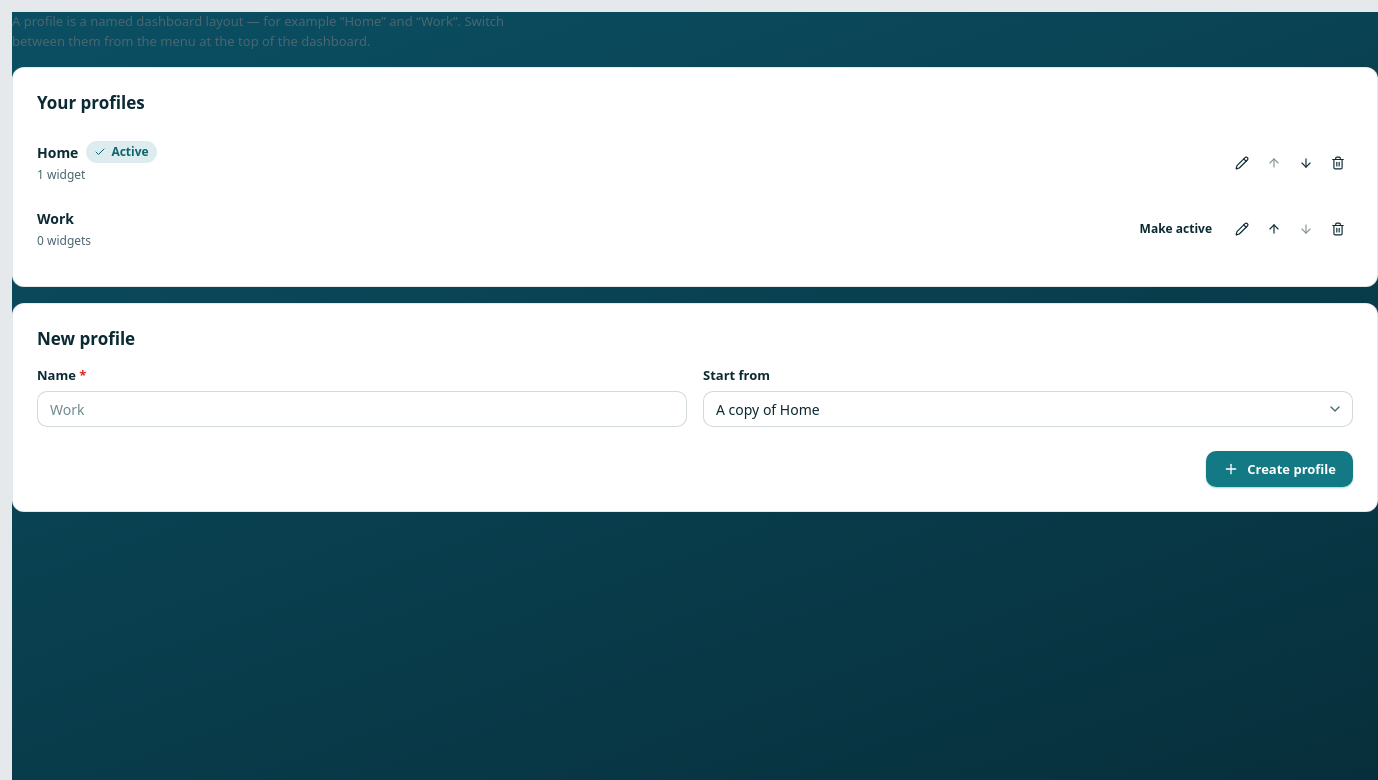
Test: Profiles settings › creates a profile as a copy, validating the name
This screenshot has width=1378, height=780.
Click the button "Create profile": [1280, 469] box x1=1206 y1=451 x2=1353 y2=487
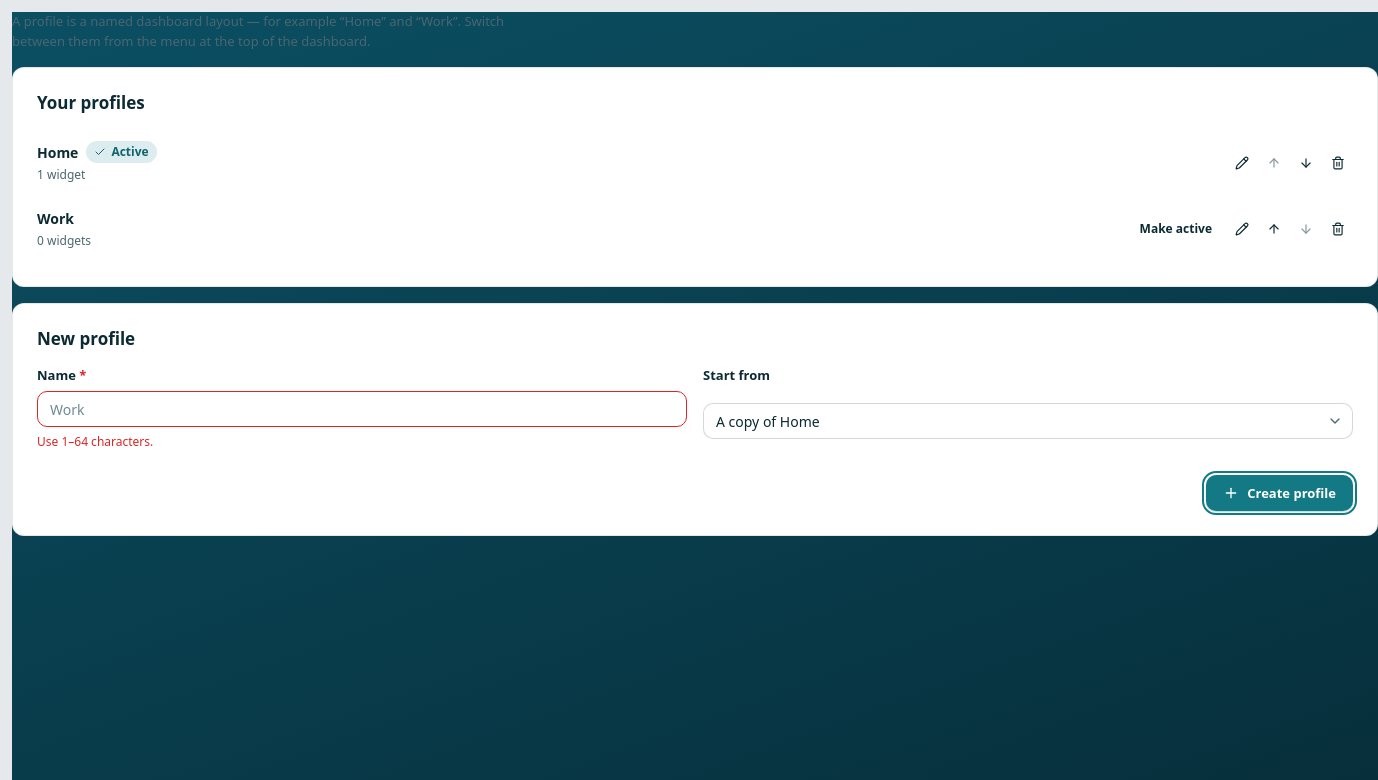
Expected: the text "Use 1–64 characters." is shown, x1=37 y1=433 x2=153 y2=450
In the field labelled "Name *": [362, 409] box x1=37 y1=391 x2=687 y2=427, type "home"
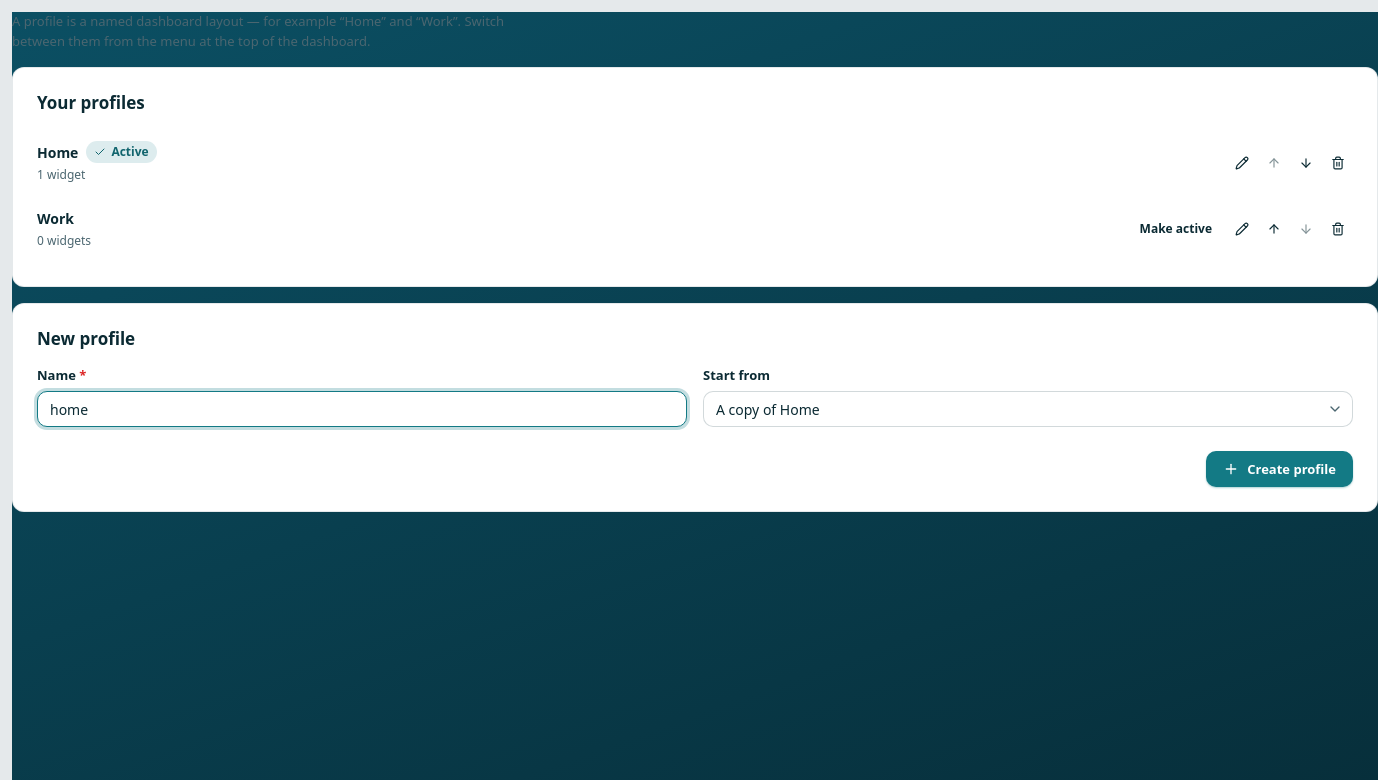
Click the button "Create profile": [1280, 469] box x1=1206 y1=451 x2=1353 y2=487
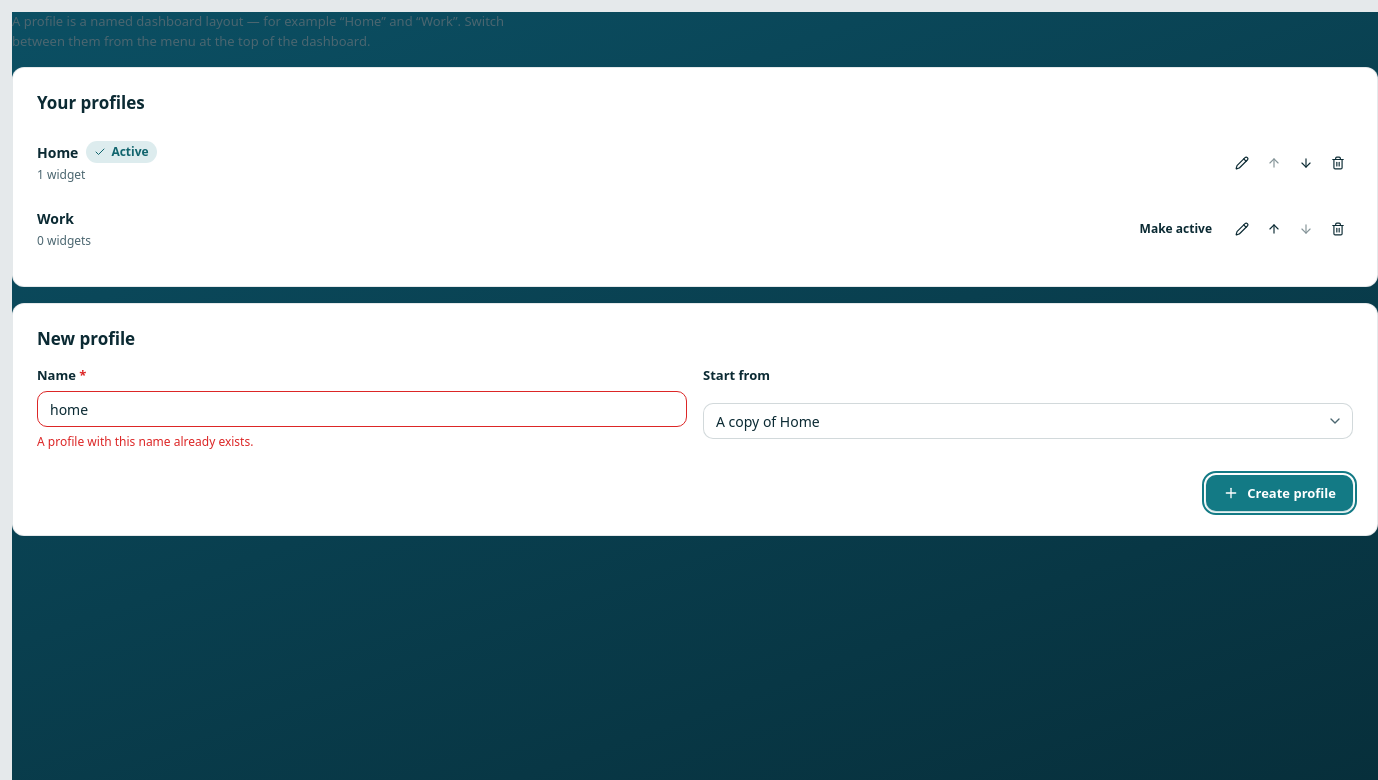
Expected: the text "A profile with this name already exists." is shown, x1=37 y1=433 x2=253 y2=450
Replace the text in the field labelled "Name *" with "Weekend": [362, 409] box x1=37 y1=391 x2=687 y2=427
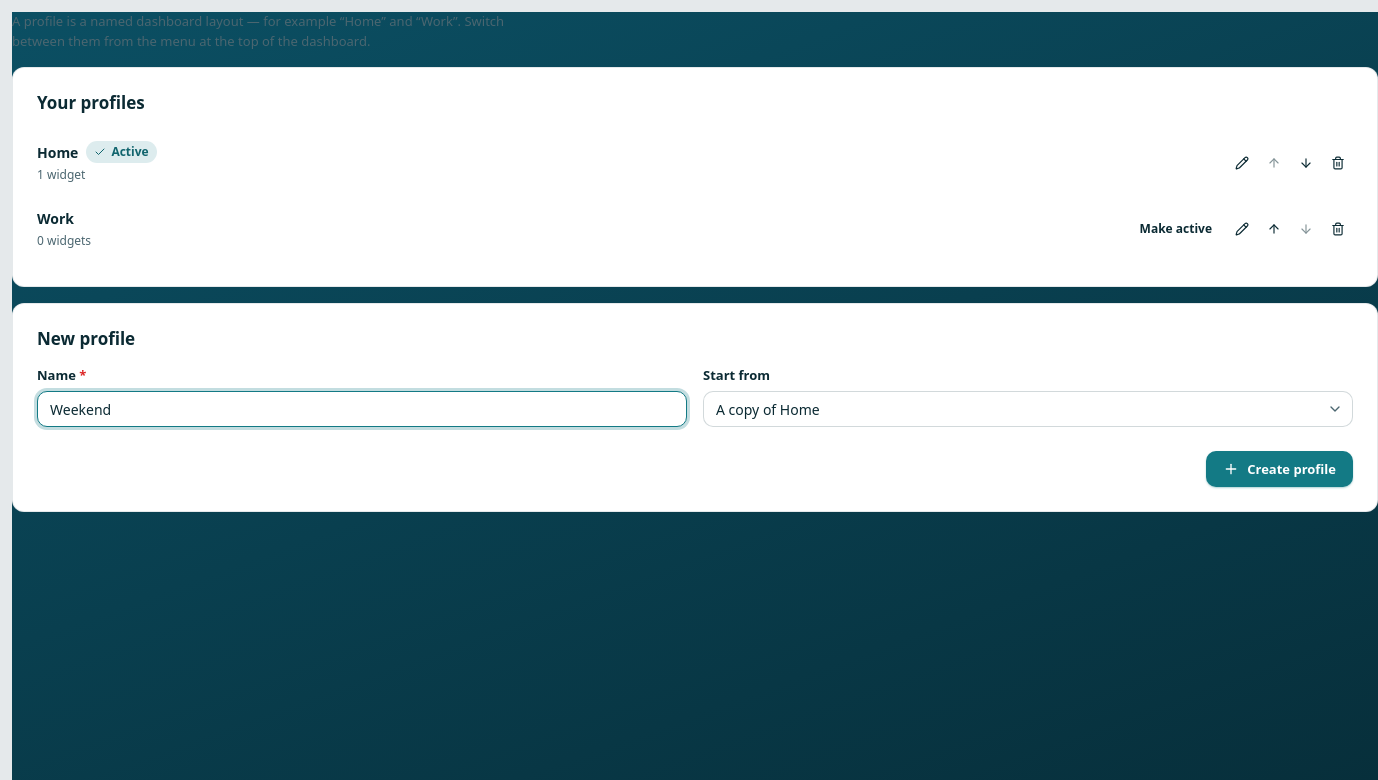
Select "A copy of Home" in the dropdown labelled "Start from": [1028, 409] box x1=703 y1=391 x2=1353 y2=427
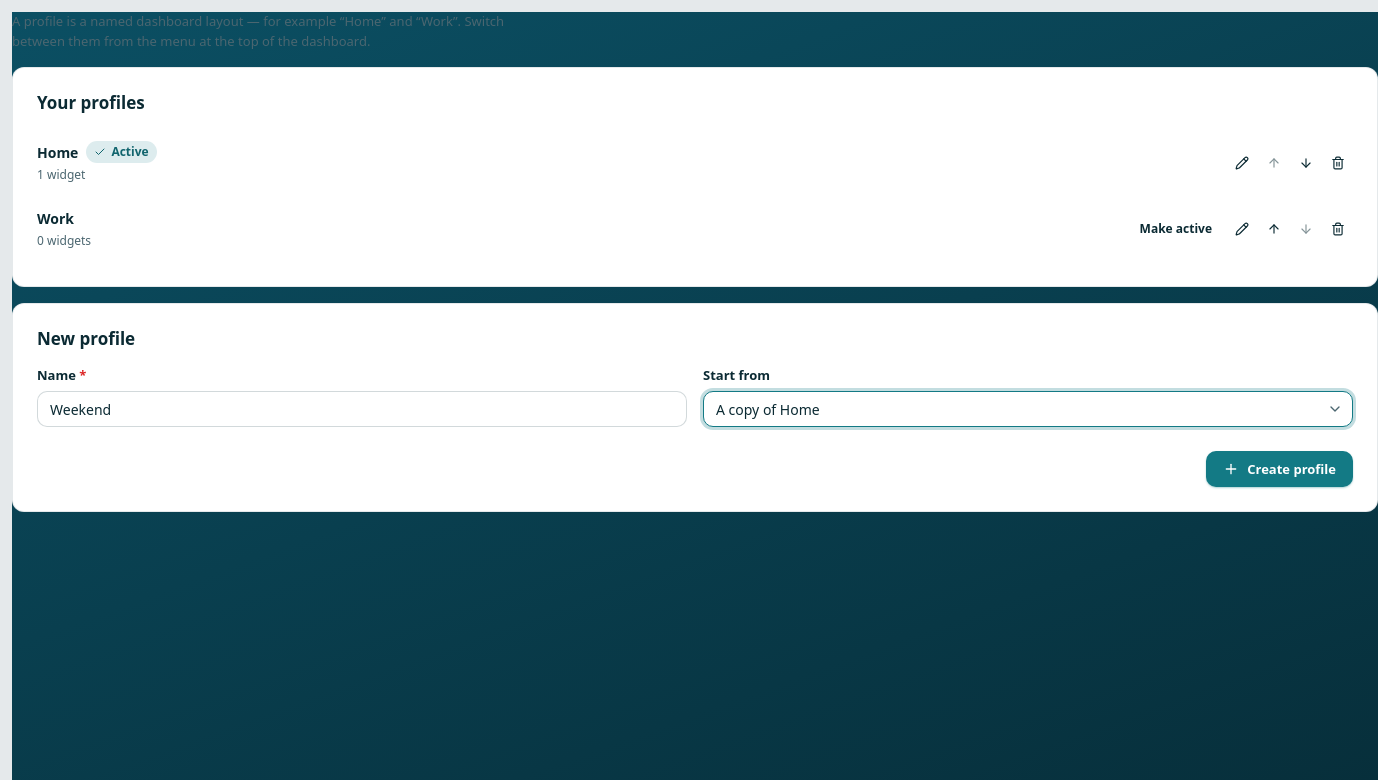
Click the button "Create profile": [1280, 469] box x1=1206 y1=451 x2=1353 y2=487
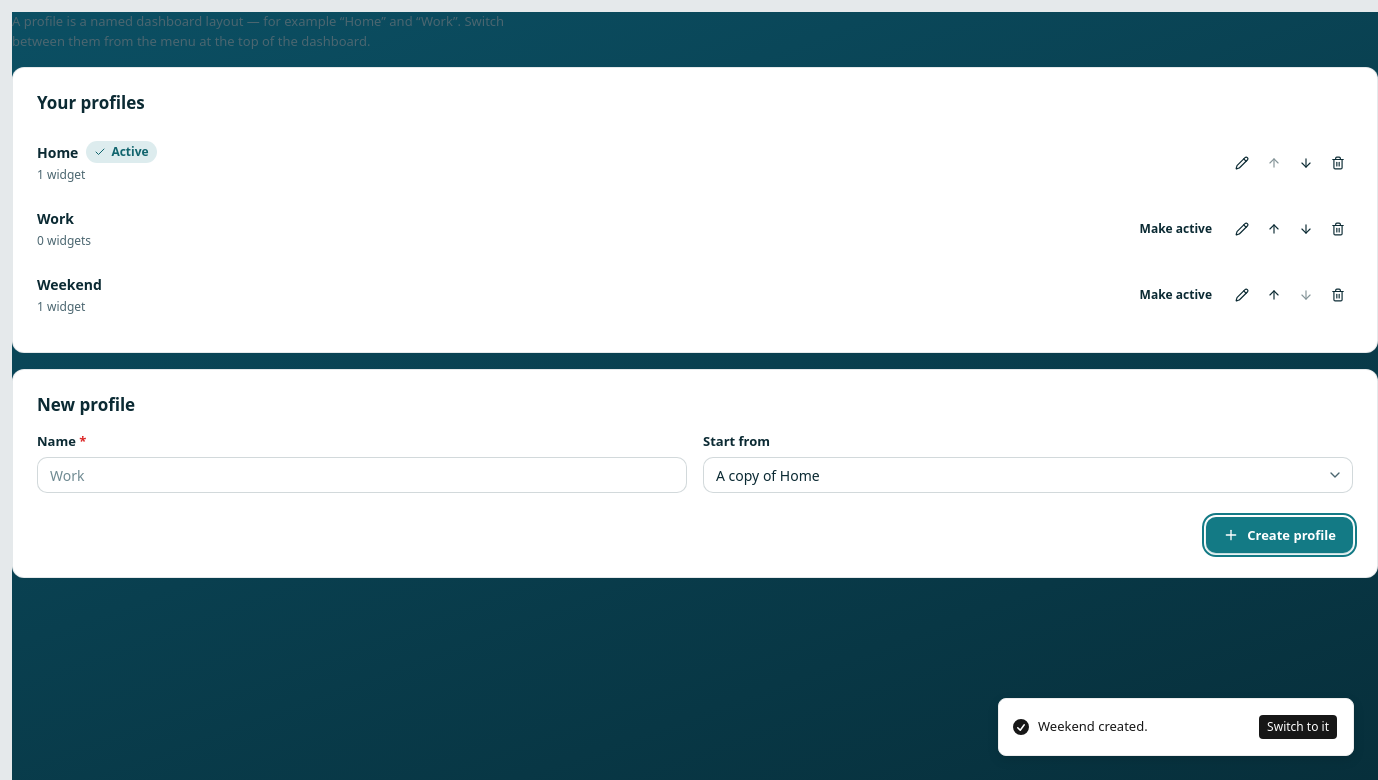
Expected: the text "Weekend created." is shown, x1=1038 y1=717 x2=1148 y2=737
